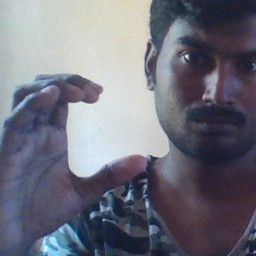C: (18, 68, 149, 194)
